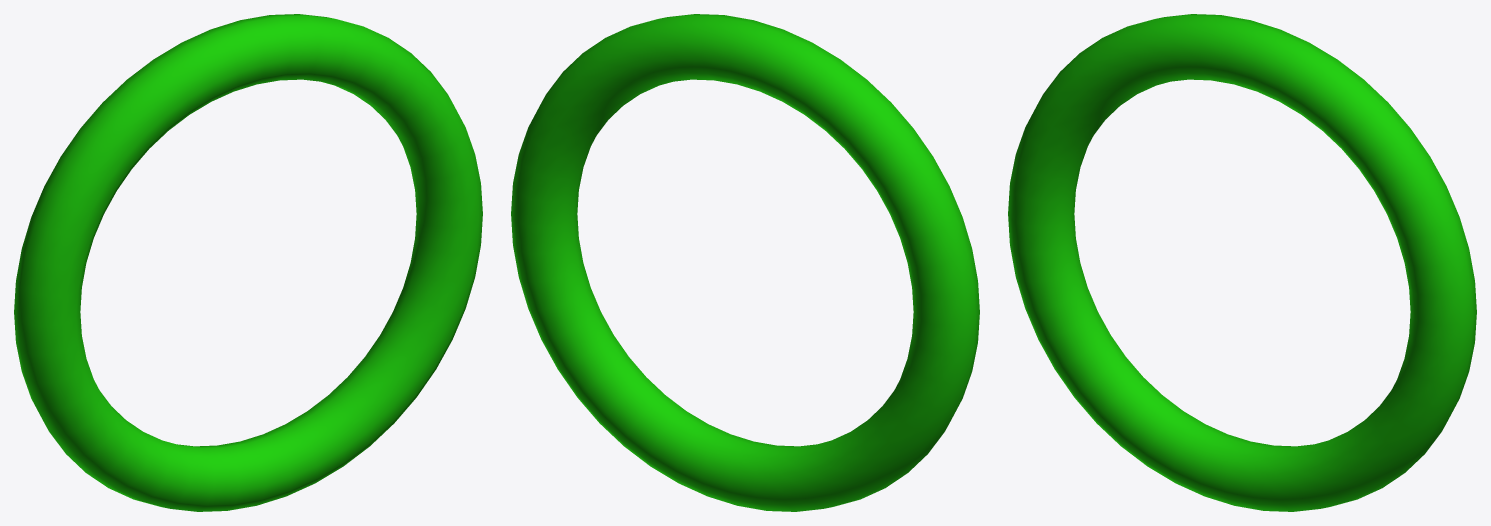
File: marker.obj
3 views of the same model, side by side, from view 1: azimuth 30°, elevation 25°; view 2: azimuth 150°, elevation 25°; view 3: azimuth 330°, elevation 25° (orthographic).
Bounding box in the file's own units: 2 × 2 × 0.25.
